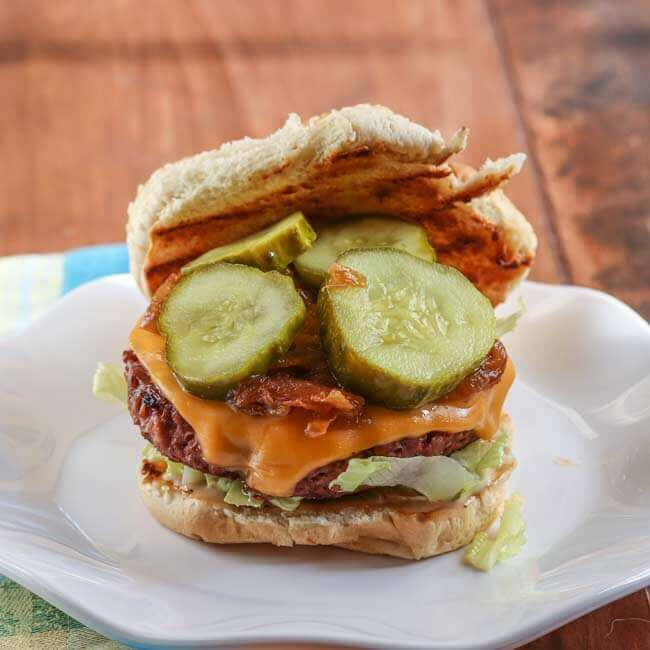hamburger_buns: (93, 98, 572, 284)
